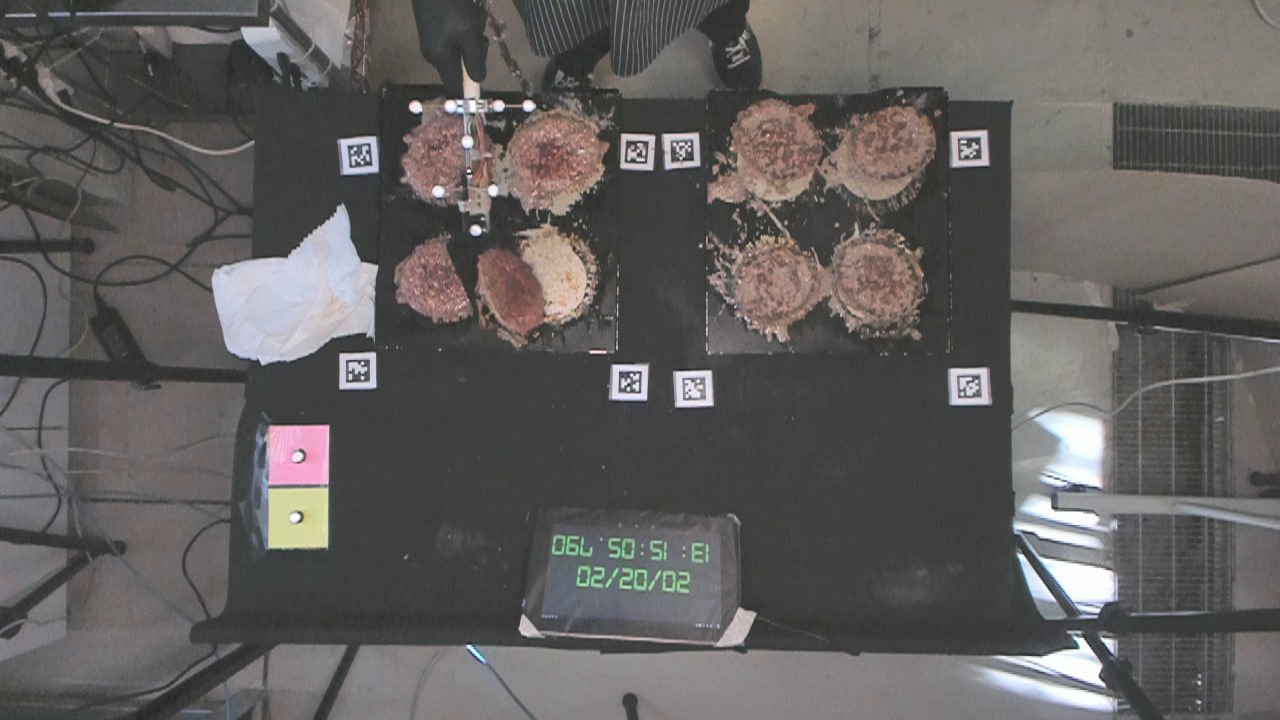hamburger: (506, 108, 603, 198), (734, 93, 822, 186), (836, 232, 921, 324), (731, 238, 816, 327), (850, 98, 936, 183), (477, 245, 543, 330), (401, 240, 472, 317)
marker: (268, 424, 330, 484)
